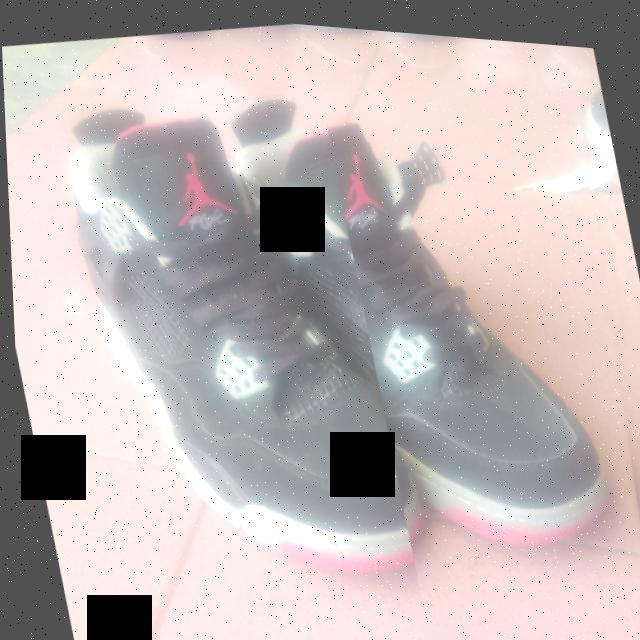shoe: (1, 23, 424, 640), (296, 19, 640, 618)
